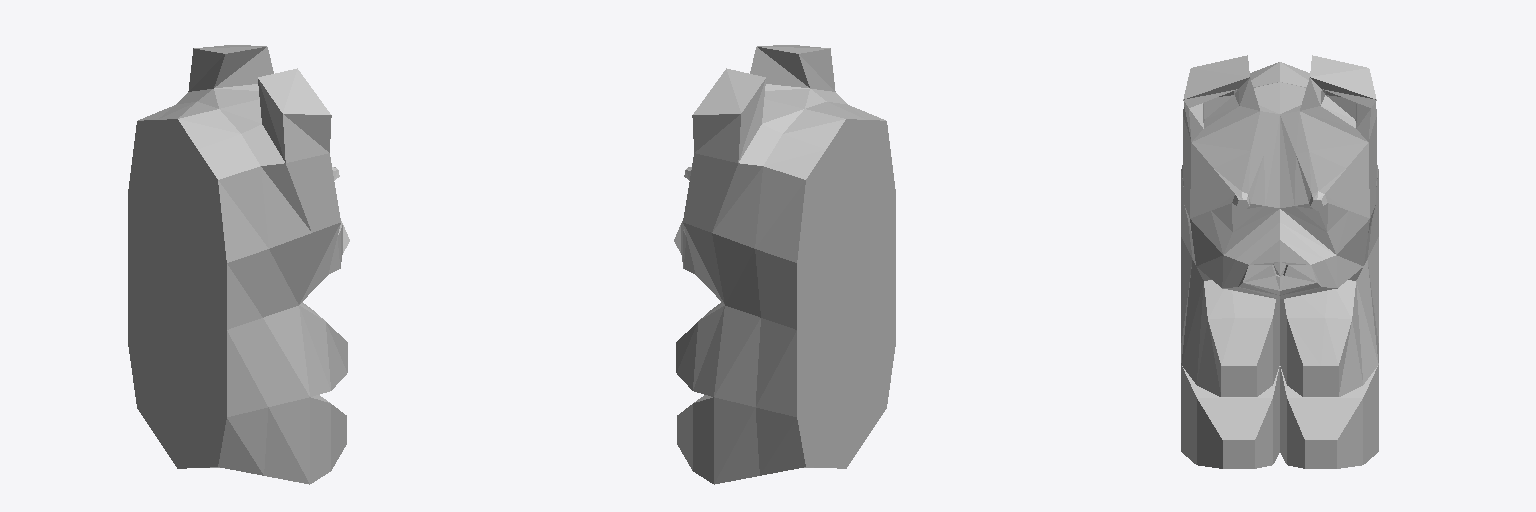
File: gummy.obj
3 views of the same model, side by side, from view 1: azimuth 30°, elevation 25°; view 2: azimuth 150°, elevation 25°; view 3: azimuth 270°, elevation 25° (orthographic).
Parts seen in each view (by area): view 1: Cube_Cube.002; view 2: Cube_Cube.002; view 3: Cube_Cube.002.
Part boxes in pixels (bbox=[...]): Cube_Cube.002: bbox=[128, 45, 349, 484]; Cube_Cube.002: bbox=[674, 45, 895, 484]; Cube_Cube.002: bbox=[1181, 55, 1378, 468].
Bounding box in the file's own units: 3.12 × 7.36 × 3.4.